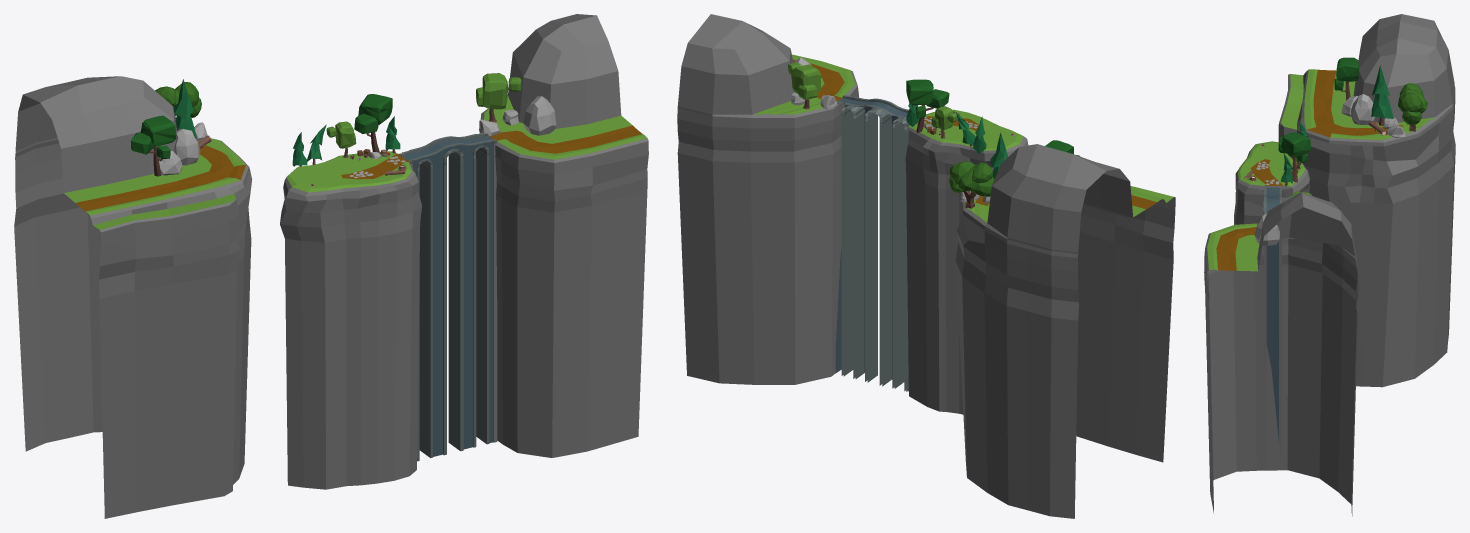
Rendered from Escenario.FBX.
3 renders of one model, left to right at view 1: azimuth 30°, elevation 25°; view 2: azimuth 150°, elevation 25°; view 3: azimuth 270°, elevation 25°, orthographic. The views are drawn at different scales.
Visible parts, largest first — view 1: Isla Izq, Isla Der, Isla Central, Puente, Detalles Izq, Detalle Der, Detalles Central, Object001; view 2: Isla Izq, Isla Der, Puente, Isla Central, Detalles Izq, Detalles Central, Detalle Der, Object001; view 3: Isla Izq, Isla Der, Detalles Izq, Isla Central, Puente, Object001, Detalles Central, Detalle Der.
Boxes of the visible parts, x1,y1,x2,y2 form: Isla Izq: [14, 76, 252, 518]; Isla Der: [479, 14, 648, 457]; Isla Central: [280, 151, 421, 489]; Puente: [398, 133, 497, 461]; Detalles Izq: [130, 79, 211, 176]; Detalle Der: [476, 73, 556, 136]; Detalles Central: [292, 116, 405, 186]; Object001: [354, 94, 392, 152]; Isla Izq: [955, 144, 1175, 518]; Isla Der: [677, 14, 858, 384]; Puente: [834, 95, 909, 391]; Isla Central: [905, 109, 1028, 414]; Detalles Izq: [949, 132, 1079, 208]; Detalles Central: [906, 103, 1013, 153]; Detalle Der: [788, 57, 838, 109]; Object001: [906, 79, 949, 133]; Isla Izq: [1278, 14, 1455, 387]; Isla Der: [1204, 192, 1358, 516]; Detalles Izq: [1334, 57, 1427, 137]; Isla Central: [1234, 141, 1309, 224]; Puente: [1263, 185, 1282, 461]; Object001: [1278, 132, 1311, 182]; Detalles Central: [1244, 122, 1308, 185]; Detalle Der: [1254, 191, 1311, 245].
Size of the model in its own units: 393 by 204 by 280.
